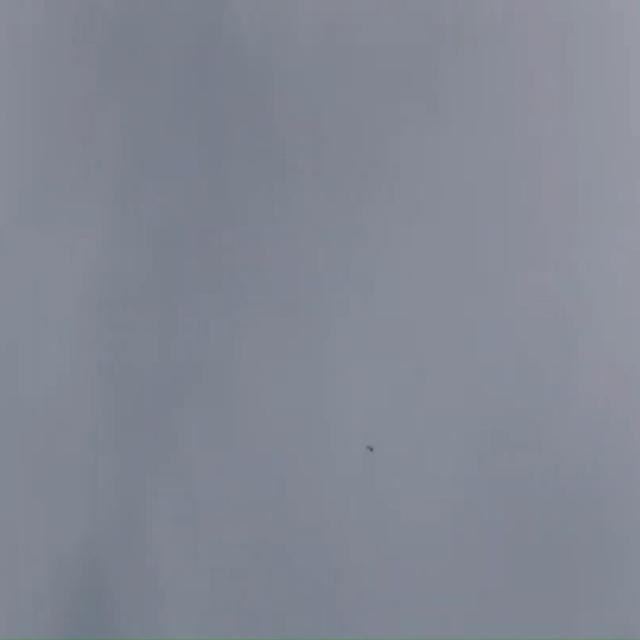Rocket: (366, 446, 374, 452)
